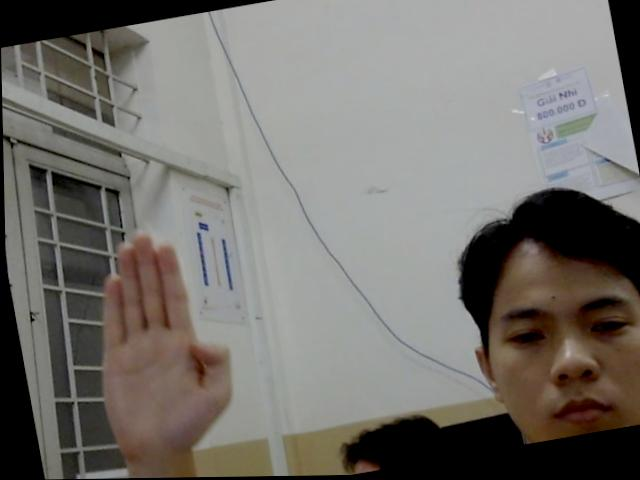B: (71, 222, 242, 455)
